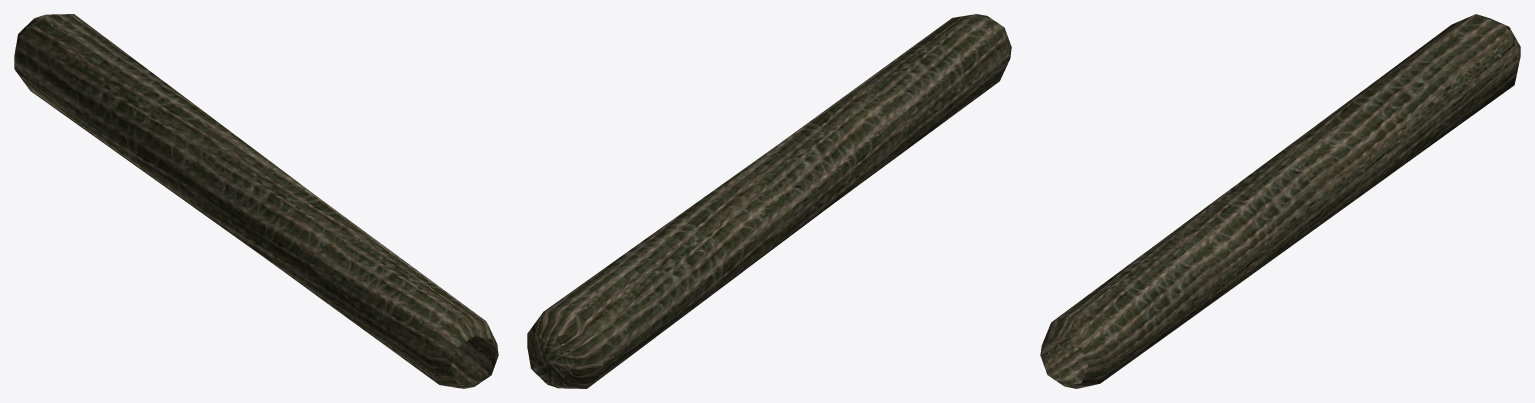
File: MEP_Cactus_h_02.fbx
3 renders of one model, left to right at view 1: azimuth 30°, elevation 25°; view 2: azimuth 150°, elevation 25°; view 3: azimuth 330°, elevation 25°, orthographic.
Parts seen in each view (by area): view 1: MEP_Cactus_h_02; view 2: MEP_Cactus_h_02; view 3: MEP_Cactus_h_02.
Part boxes in pixels (box(x1,y1,x2,y2)): MEP_Cactus_h_02: box(14, 14, 498, 388); MEP_Cactus_h_02: box(527, 14, 1011, 388); MEP_Cactus_h_02: box(1040, 14, 1520, 388).
Size of the model in its own units: 0.5376 by 0.5376 by 5.41.
Materials: 1 (1 with a texture image).
